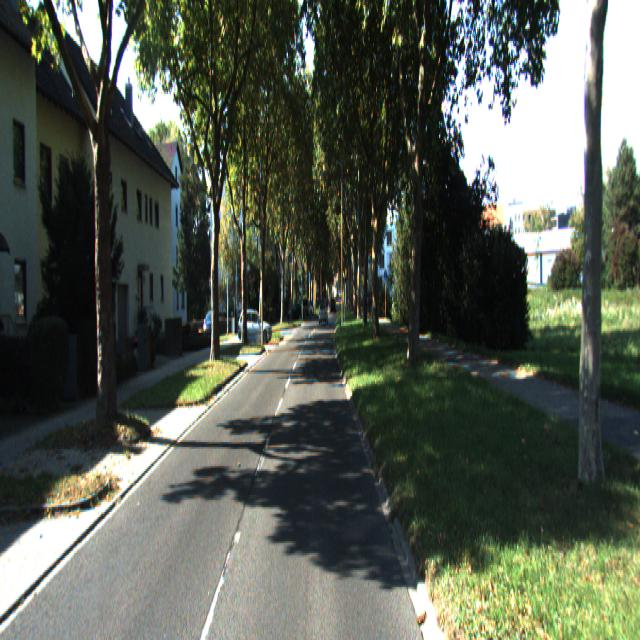Car: (237, 314, 273, 350)
